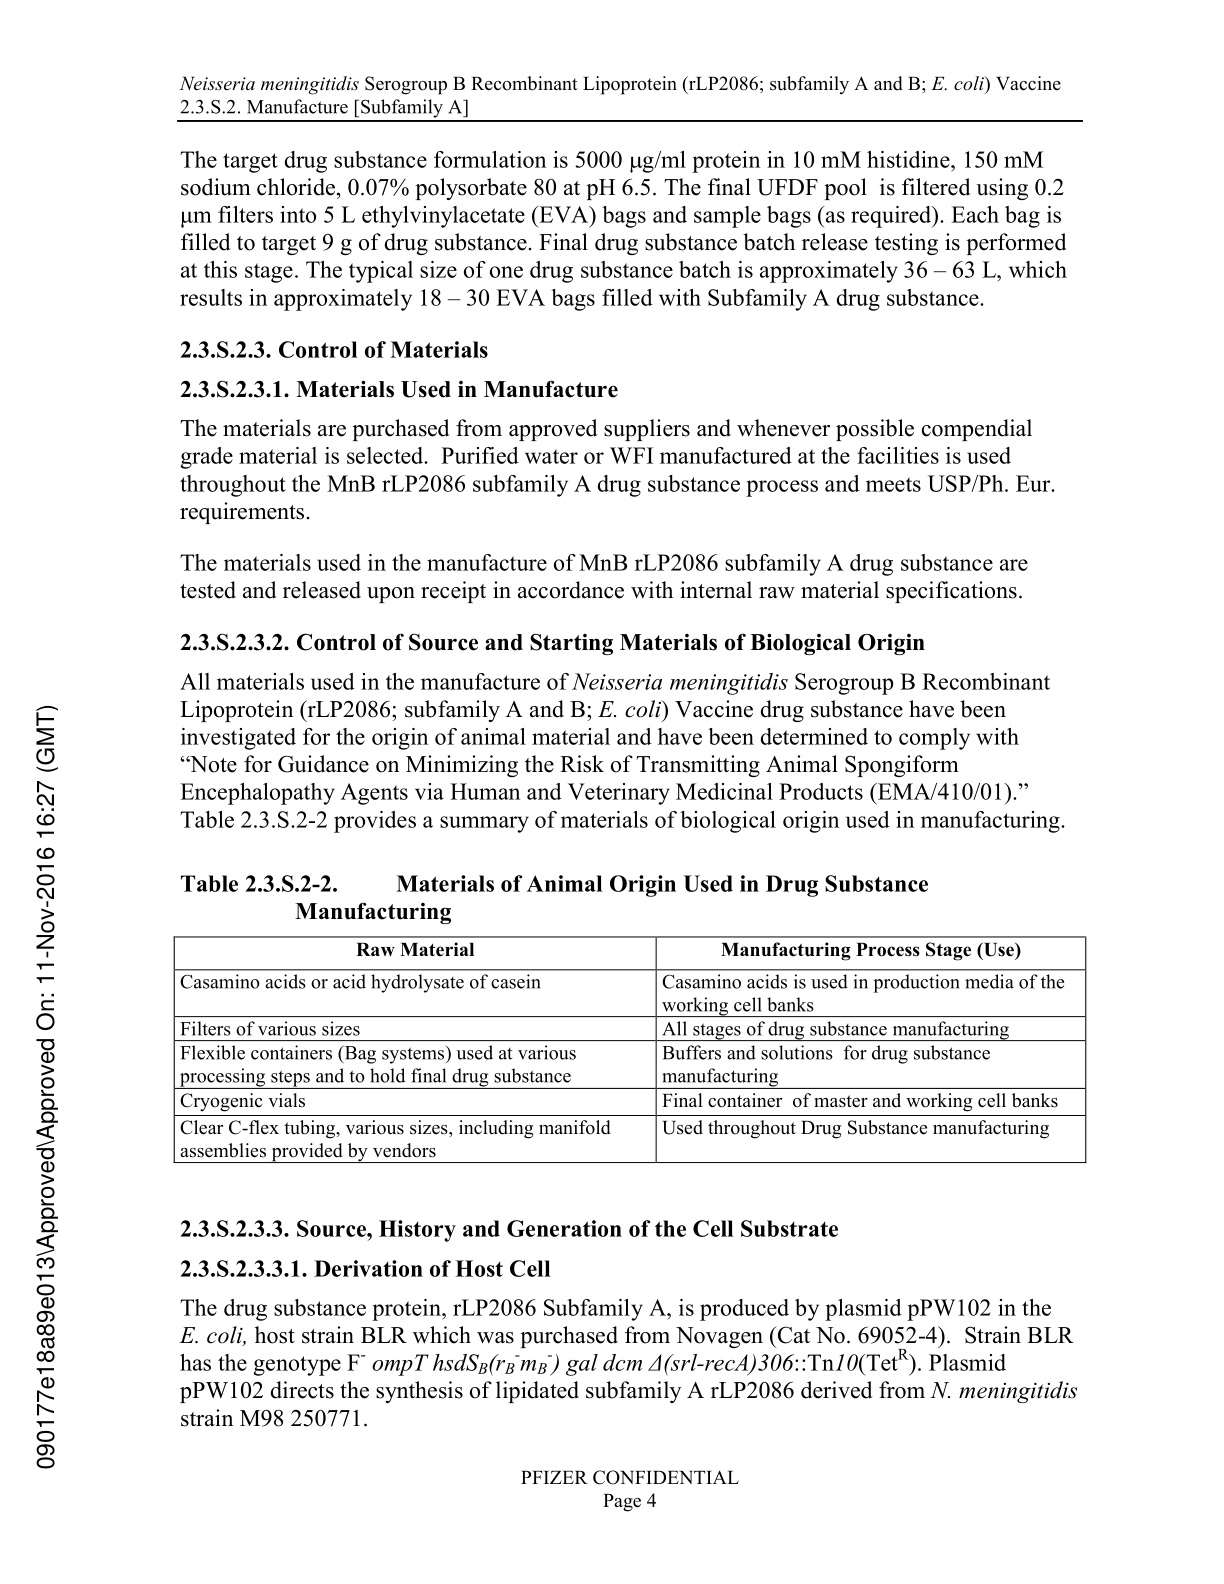full_lined: (174, 936, 1086, 1164)
